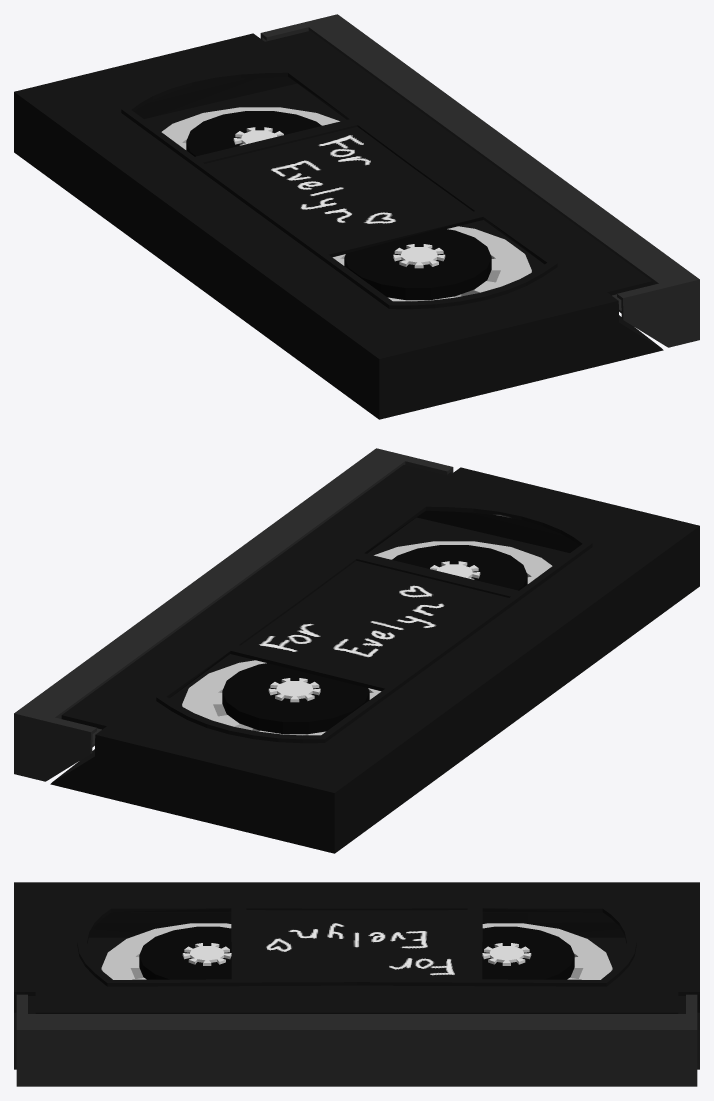
File: vhstapetest.fbx
The picture shows the model from 3 angles, top to bottom: view 1: azimuth 30°, elevation 25°; view 2: azimuth 150°, elevation 25°; view 3: azimuth 270°, elevation 25°; orthographic projection. The views are drawn at different scales.
Visible parts, largest first — view 1: Cube, Cube.001, Cylinder.002, Cylinder.001, Cylinder; view 2: Cube, Cube.001, Cylinder.002, Cylinder.001, Cylinder; view 3: Cube, Cube.001, Cylinder.002, Cylinder.001, Cylinder.
Part boxes in pixels (x1,y1,x2,y2): Cube: (14, 31, 663, 419); Cube.001: (260, 14, 699, 347); Cylinder.002: (186, 111, 491, 299); Cylinder.001: (161, 107, 531, 301); Cylinder: (233, 127, 445, 268); Cube: (50, 465, 699, 853); Cube.001: (14, 448, 453, 781); Cylinder.002: (222, 545, 527, 733); Cylinder.001: (182, 541, 552, 735); Cylinder: (268, 561, 480, 702); Cube: (14, 882, 699, 1069); Cube.001: (16, 994, 697, 1086); Cylinder.002: (139, 926, 574, 979); Cylinder.001: (101, 923, 612, 979); Cylinder: (182, 943, 531, 965).
Size of the model in its own units: 306 by 59.91 by 600.
5 materials, 5 textured.
